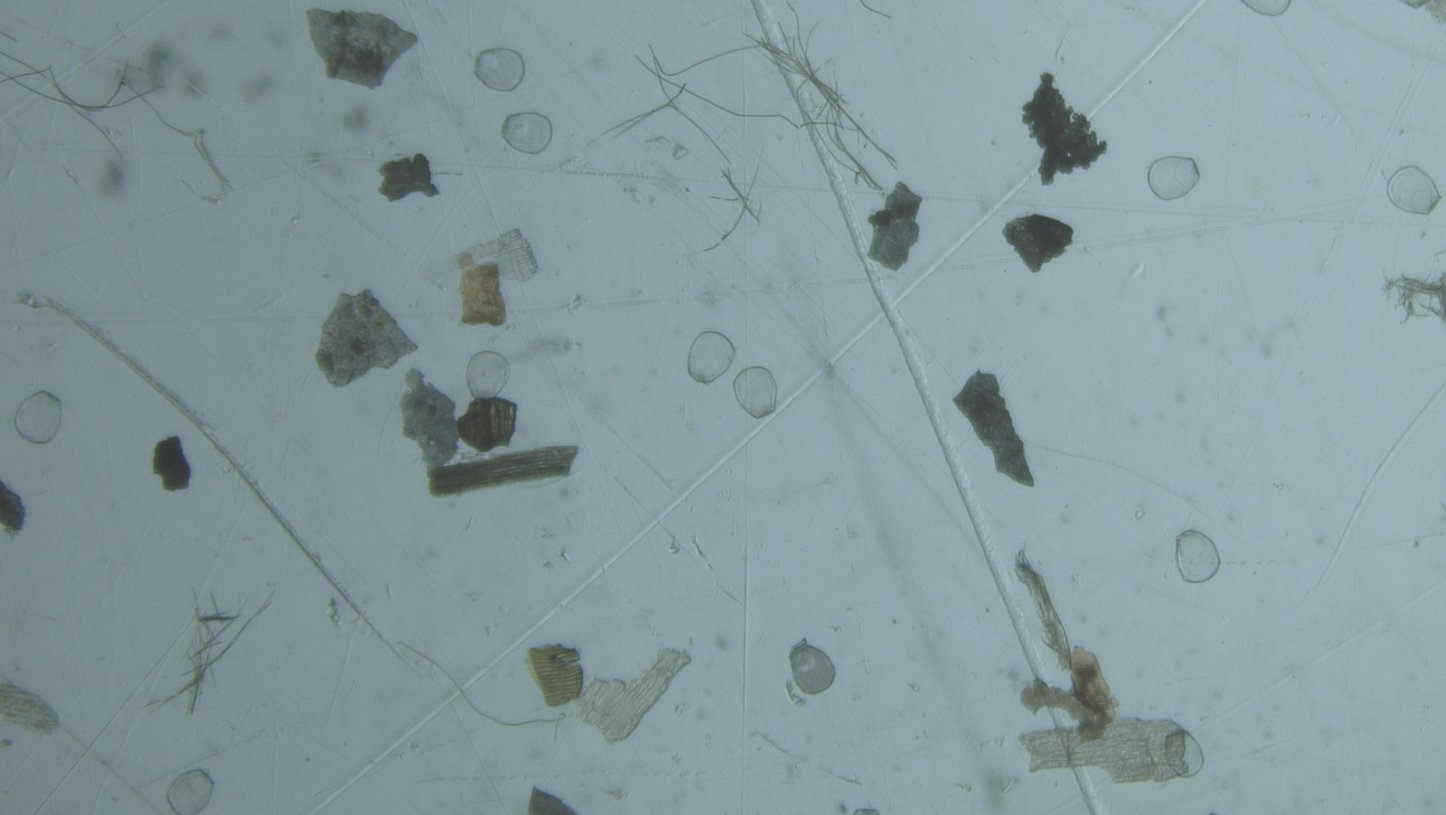dead: (789, 639, 836, 695), (1388, 166, 1440, 215), (14, 391, 62, 444), (1175, 529, 1221, 584), (688, 332, 735, 384), (474, 48, 525, 91), (734, 367, 777, 418), (1149, 158, 1201, 200), (167, 769, 214, 815), (466, 352, 510, 400), (502, 113, 552, 155), (1242, 0, 1291, 16)
